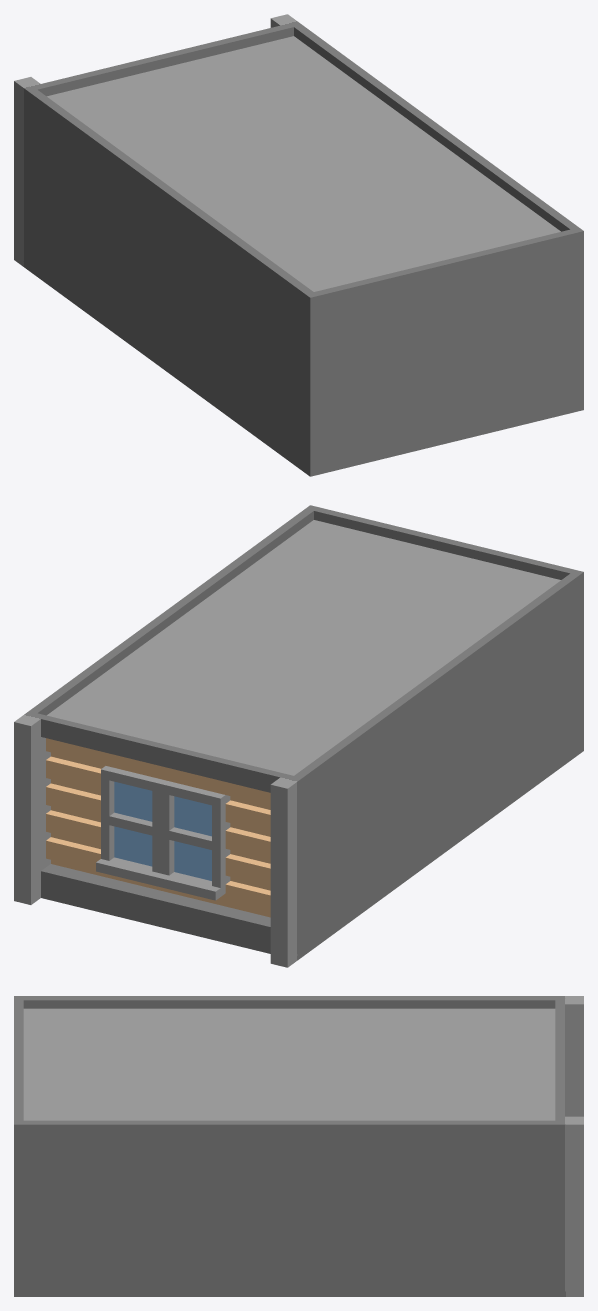
Rendered from obj_story03a.fbx.
3 views of the same model, one above another, from view 1: azimuth 30°, elevation 25°; view 2: azimuth 150°, elevation 25°; view 3: azimuth 270°, elevation 25° (orthographic). The views are drawn at different scales.
Parts seen in each view (by area): view 1: obj_story03a; view 2: obj_story03a; view 3: obj_story03a.
Boxes of the visible parts, x1,y1,x2,y2 form: obj_story03a: [14, 14, 583, 476]; obj_story03a: [14, 505, 583, 967]; obj_story03a: [14, 996, 583, 1296].
Size of the model in its own units: 3.2 by 6 by 2.
Materials: 1 (1 with a texture image).
